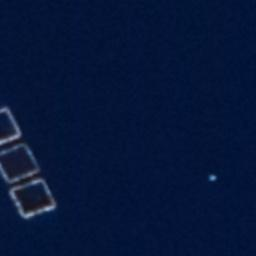square_solid: (8, 174, 62, 222), (1, 138, 45, 188), (1, 100, 30, 150)
